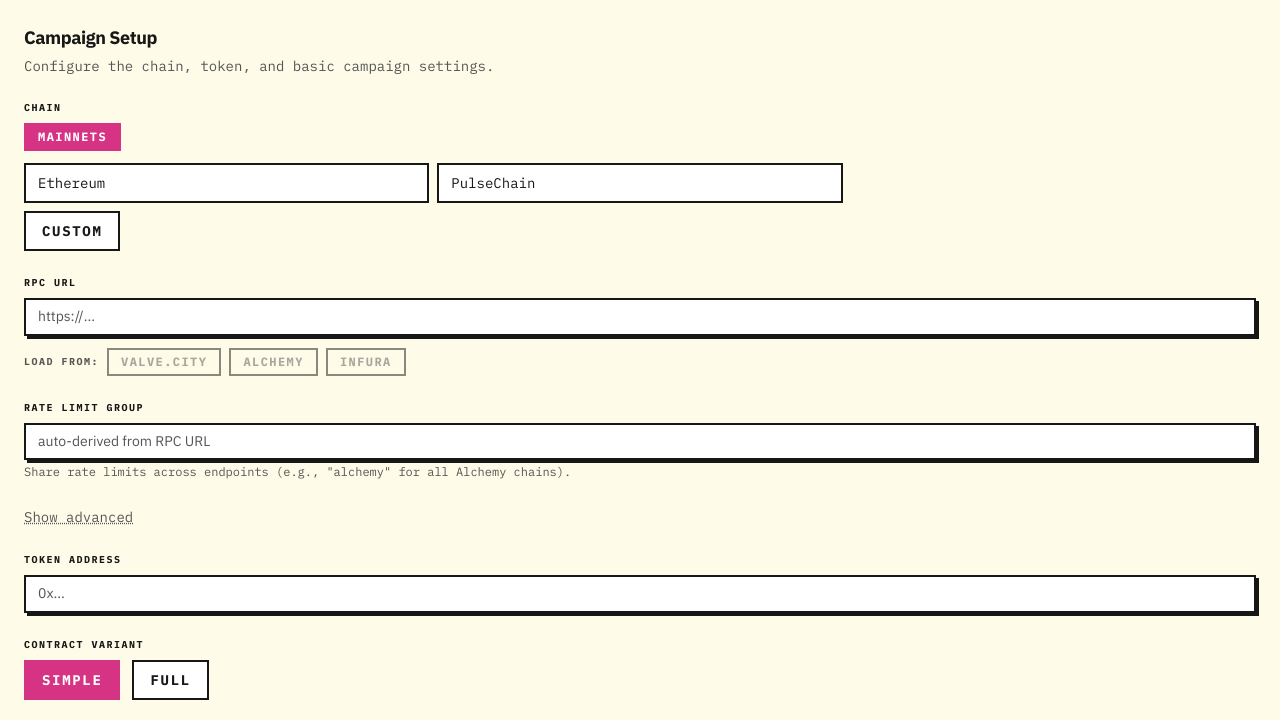
Test: CampaignStep › auto-fills RPC URL when chain is selected
Click the button "Ethereum". click: (72, 183)
box: [24,163,429,203]
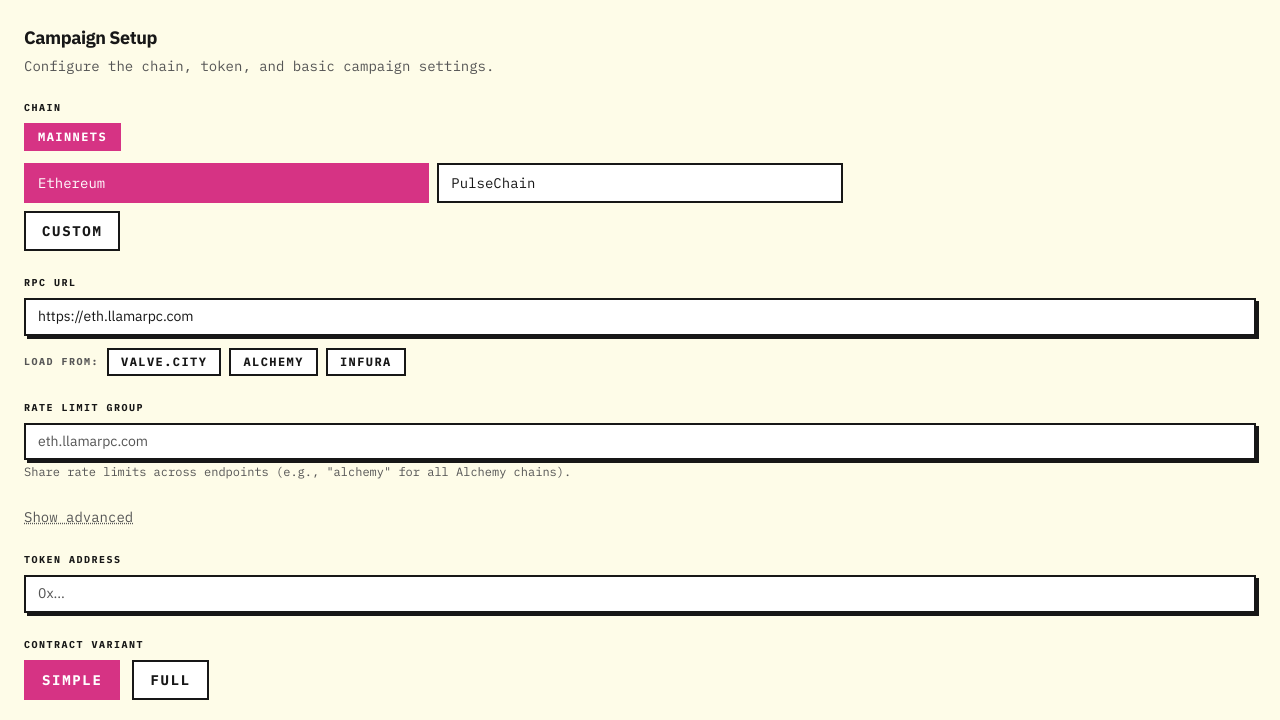
expect the field with placeholder "https://..." holds "https://eth.llamarpc.com": met, box [24,298,1256,336]
